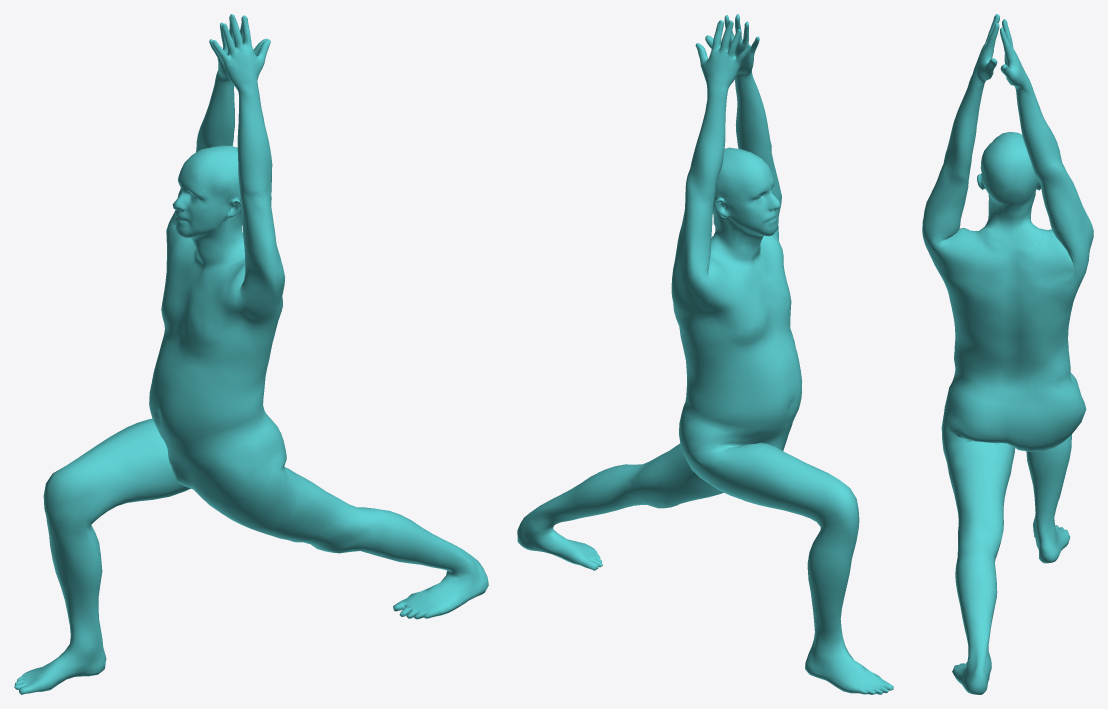
Rendered from warrior_1_pose_male.glb.
The picture shows the model from 3 angles, left to right: view 1: azimuth 30°, elevation 25°; view 2: azimuth 150°, elevation 25°; view 3: azimuth 270°, elevation 25°; orthographic projection. The views are drawn at different scales.
Visible parts, largest first — view 1: warrior_1_pose Reference; view 2: warrior_1_pose Reference; view 3: warrior_1_pose Reference.
Boxes of the visible parts, x1=… form: warrior_1_pose Reference: x1=14, y1=14, x2=488, y2=694; warrior_1_pose Reference: x1=517, y1=14, x2=893, y2=694; warrior_1_pose Reference: x1=922, y1=14, x2=1093, y2=694.
Bounding box in the file's own units: 1.3 × 1.87 × 0.4863.
